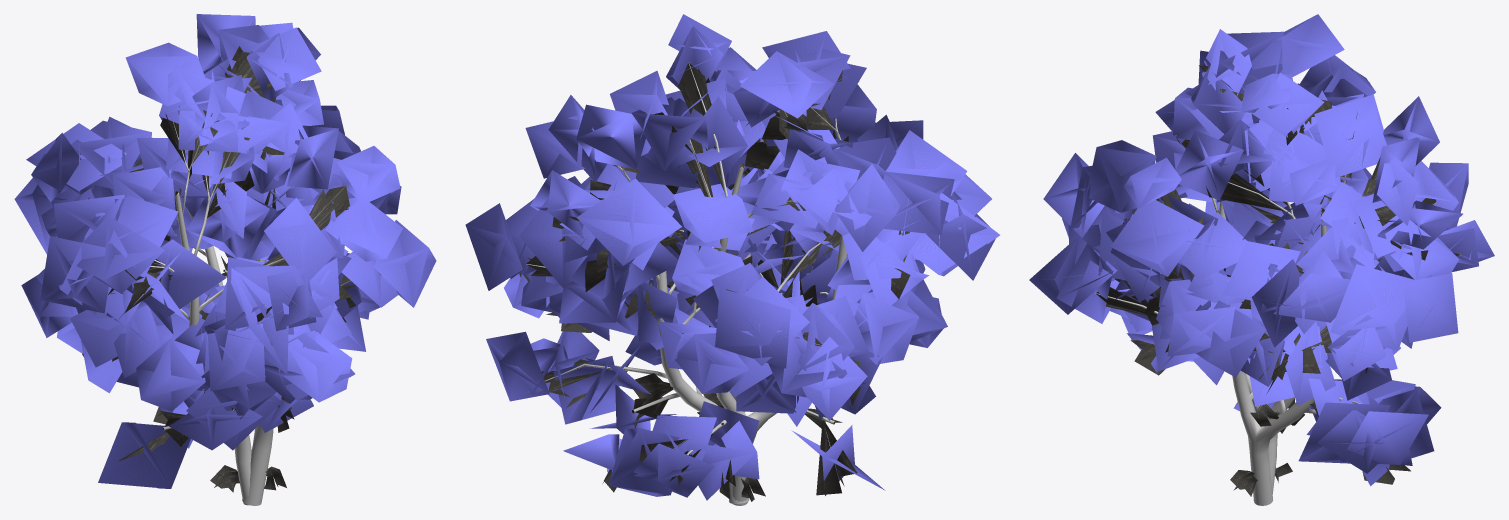
The model's file is Birch_7.fbx.
3 renders of one model, left to right at view 1: azimuth 30°, elevation 25°; view 2: azimuth 150°, elevation 25°; view 3: azimuth 270°, elevation 25°, orthographic. The views are drawn at different scales.
Visible parts, largest first — view 1: Birch_7; view 2: Birch_7; view 3: Birch_7.
Boxes of the visible parts, x1,y1,x2,y2 form: Birch_7: [14, 14, 436, 505]; Birch_7: [465, 14, 999, 505]; Birch_7: [1029, 14, 1494, 505].
Size of the model in its own units: 24.37 by 25.98 by 24.28.
